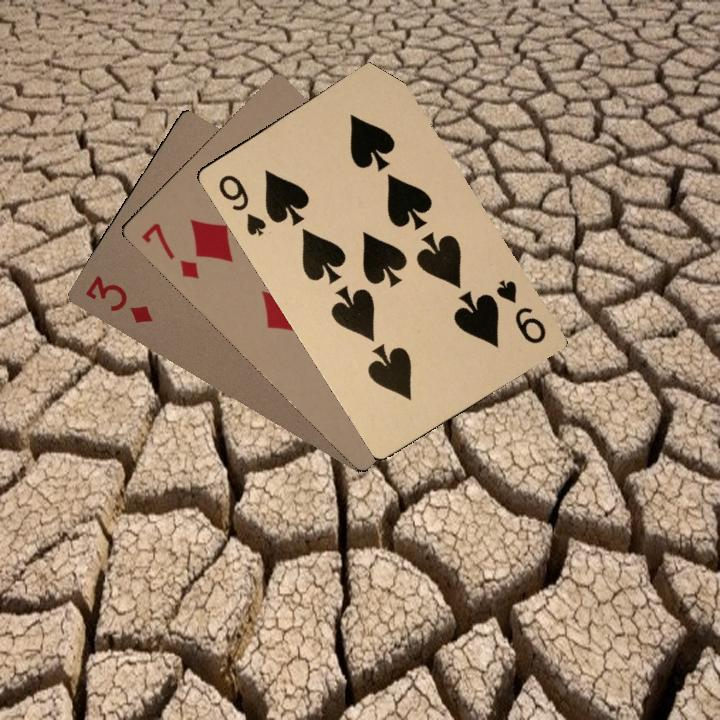3d: (81, 271, 156, 327)
7d: (137, 219, 202, 282)
9s: (492, 275, 549, 347), (214, 170, 269, 239)
